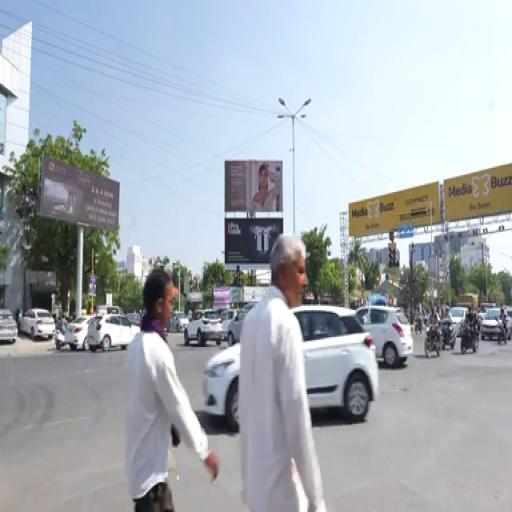Car: (293, 305, 378, 422), (356, 306, 413, 366), (88, 315, 139, 352), (184, 309, 221, 345), (228, 303, 255, 345), (20, 309, 55, 341), (64, 316, 93, 351), (480, 308, 500, 339), (0, 309, 17, 344), (220, 309, 238, 339), (451, 306, 467, 337), (169, 312, 189, 332), (126, 312, 141, 327)
